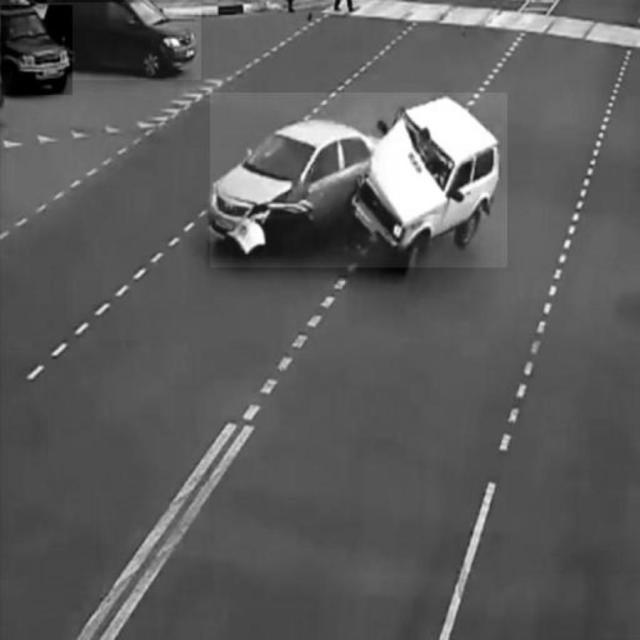accident: (210, 93, 507, 268)
vehicle: (45, 3, 201, 80), (2, 6, 73, 96)
